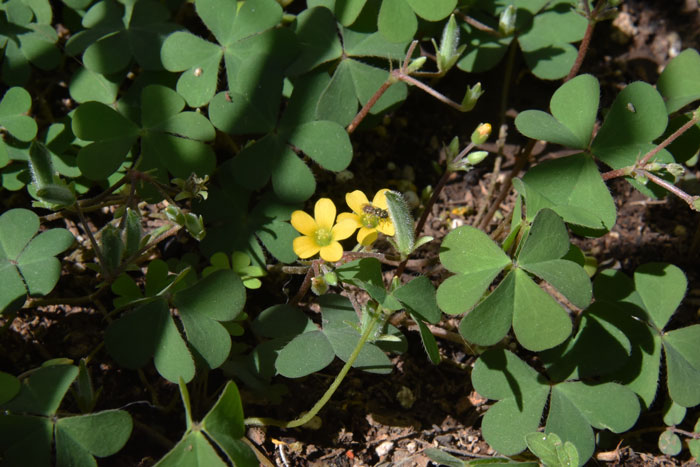oxalis: (392, 199, 700, 447), (54, 245, 357, 467), (42, 15, 364, 201), (445, 57, 681, 247)
